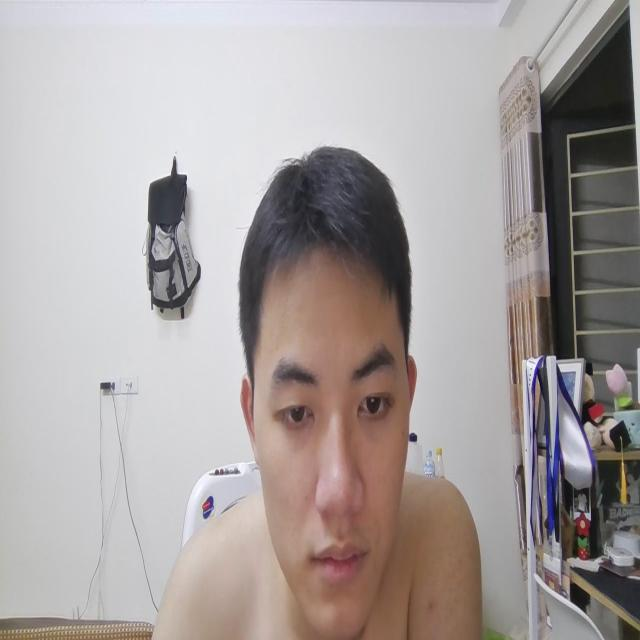student: (230, 135, 422, 640)
